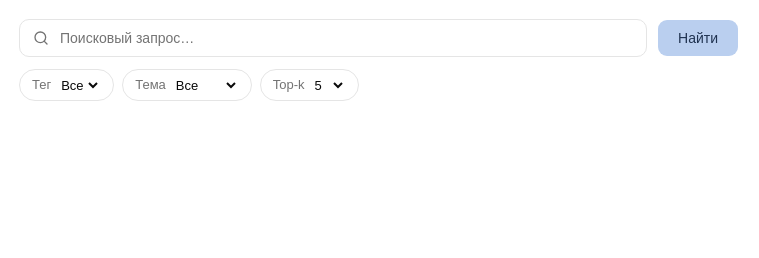
Test: сабмит уходит с параметрами, результат рендерится
Type "data vault" into the field with placeholder "Поисковый запрос…" at (333, 38), box [19,19,647,57]
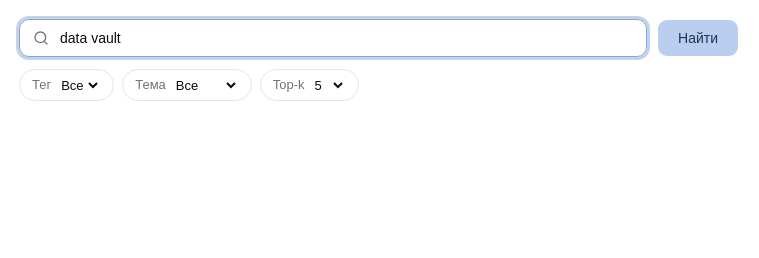
Select "dwh" in the dropdown labelled "Тег" at (79, 85), box [57,76,101,94]
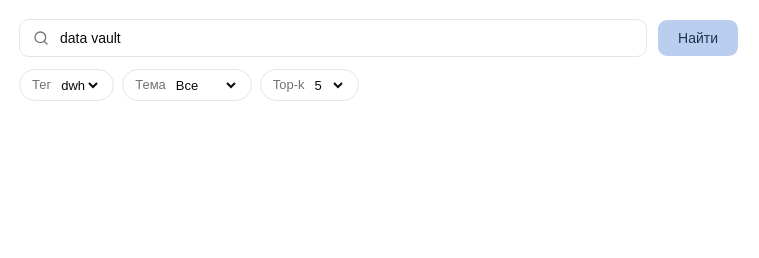
Click the button "Найти" at (698, 38), box [657,19,739,57]
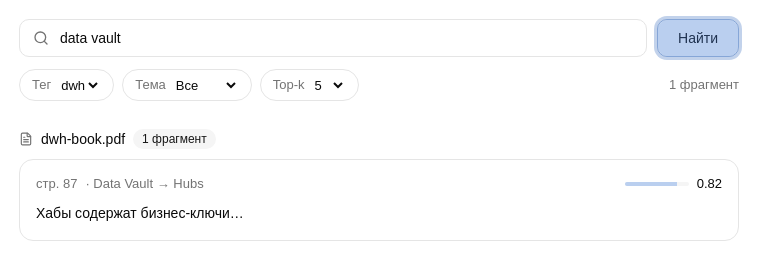
Now the text "Хабы содержат бизнес-ключи…" is shown, box [36,204,244,220]
Now the text "dwh-book.pdf 1 фрагмент" is shown, box [19,129,216,149]
Now the text "стр. 87" is shown, box [36,174,77,194]
